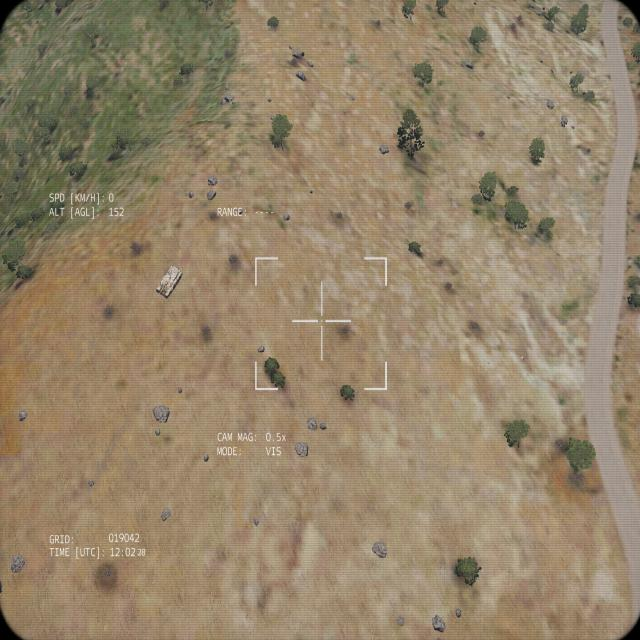tank: (152, 263, 182, 305)
